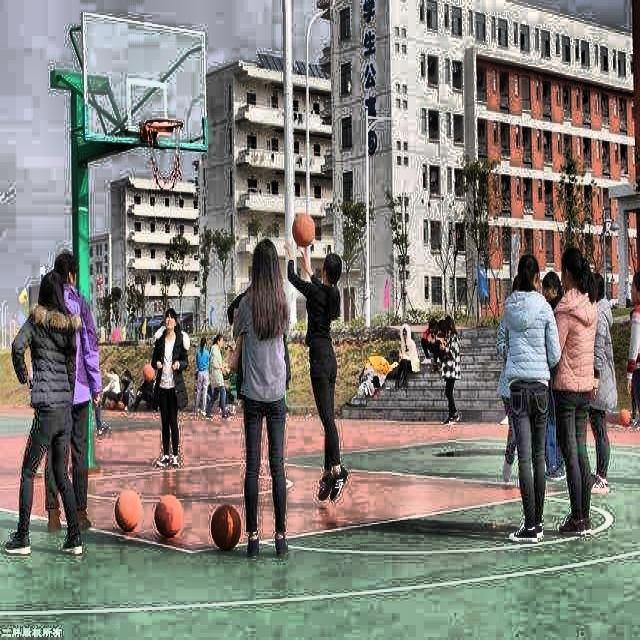board: (212, 504, 242, 551), (156, 494, 183, 538), (115, 490, 144, 530)
